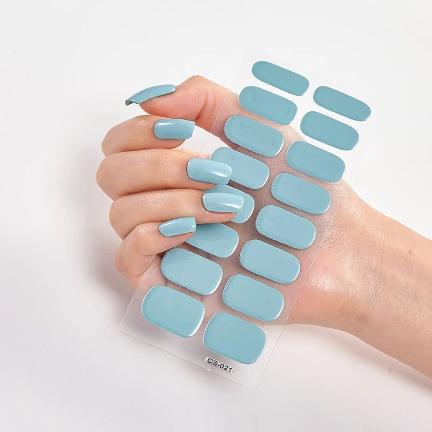Nail: (186, 158, 231, 185), (127, 84, 175, 103), (154, 118, 195, 139), (202, 193, 244, 212), (159, 216, 196, 237)
